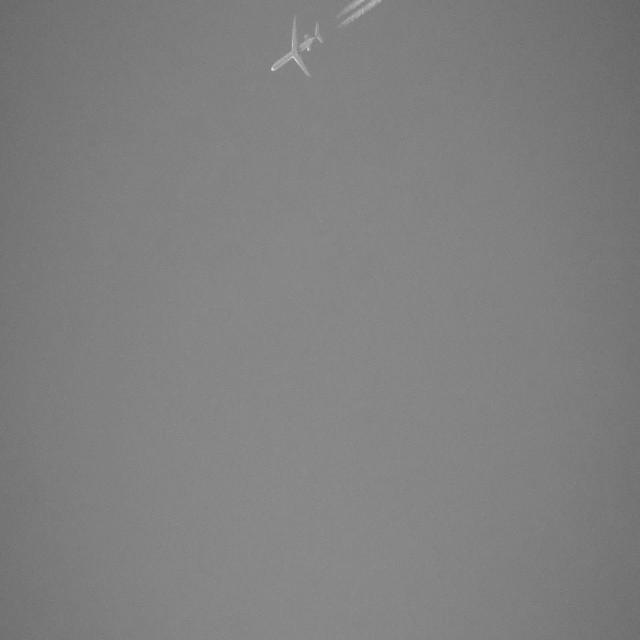aeroplane: (271, 15, 327, 86)
